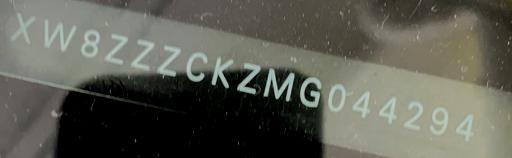letter: (40, 17, 80, 52), (264, 68, 300, 100), (236, 58, 264, 94), (103, 31, 133, 64), (11, 9, 37, 46), (300, 74, 328, 108), (156, 44, 184, 76), (350, 86, 376, 119), (402, 99, 428, 132), (131, 39, 157, 70), (185, 51, 211, 81), (212, 54, 236, 86), (79, 27, 103, 58), (377, 93, 401, 122), (454, 112, 478, 141), (428, 105, 450, 134), (330, 79, 348, 111)
